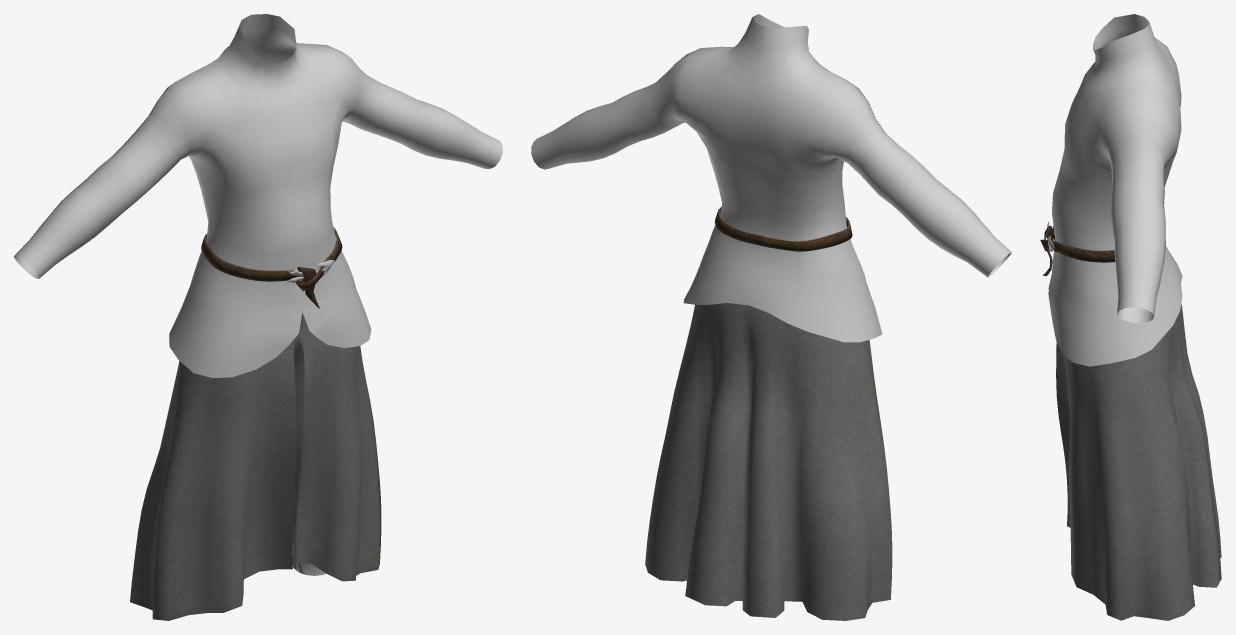
File: rivendell_torso_scalemail_tier1_silvergold.fbx
3 views of the same model, side by side, from view 1: azimuth 30°, elevation 25°; view 2: azimuth 150°, elevation 25°; view 3: azimuth 270°, elevation 25° (orthographic). The views are drawn at different scales.
Parts seen in each view (by area): view 1: rivendell_torso_scalemail_tier1_silvergold.2, rivendell_torso_scalemail_tier1_silvergold.0, rivendell_torso_scalemail_tier1_silvergold.1; view 2: rivendell_torso_scalemail_tier1_silvergold.0, rivendell_torso_scalemail_tier1_silvergold.2, rivendell_torso_scalemail_tier1_silvergold.1; view 3: rivendell_torso_scalemail_tier1_silvergold.0, rivendell_torso_scalemail_tier1_silvergold.2, rivendell_torso_scalemail_tier1_silvergold.1.
Part boxes in pixels (x1=…): rivendell_torso_scalemail_tier1_silvergold.2: x1=14, y1=14, x2=502, y2=378; rivendell_torso_scalemail_tier1_silvergold.0: x1=130, y1=313, x2=381, y2=620; rivendell_torso_scalemail_tier1_silvergold.1: x1=201, y1=227, x2=342, y2=308; rivendell_torso_scalemail_tier1_silvergold.0: x1=645, y1=303, x2=892, y2=620; rivendell_torso_scalemail_tier1_silvergold.2: x1=531, y1=14, x2=1011, y2=342; rivendell_torso_scalemail_tier1_silvergold.1: x1=714, y1=207, x2=852, y2=251; rivendell_torso_scalemail_tier1_silvergold.0: x1=1056, y1=303, x2=1221, y2=620; rivendell_torso_scalemail_tier1_silvergold.2: x1=1048, y1=14, x2=1182, y2=366; rivendell_torso_scalemail_tier1_silvergold.1: x1=1040, y1=221, x2=1115, y2=276.
Bounding box in the file's own units: 1.27 × 0.4304 × 1.44.
